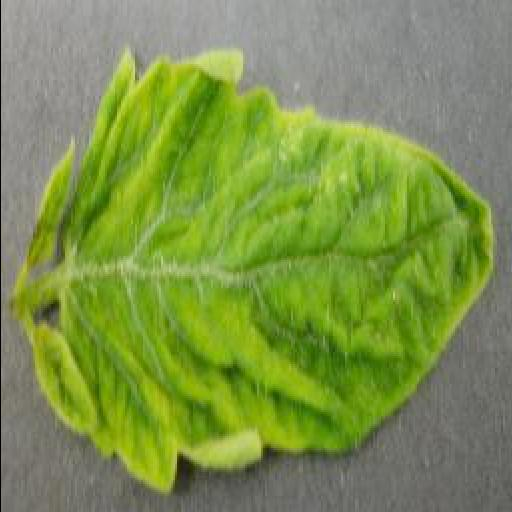disease_tomato: (6, 50, 498, 499)
